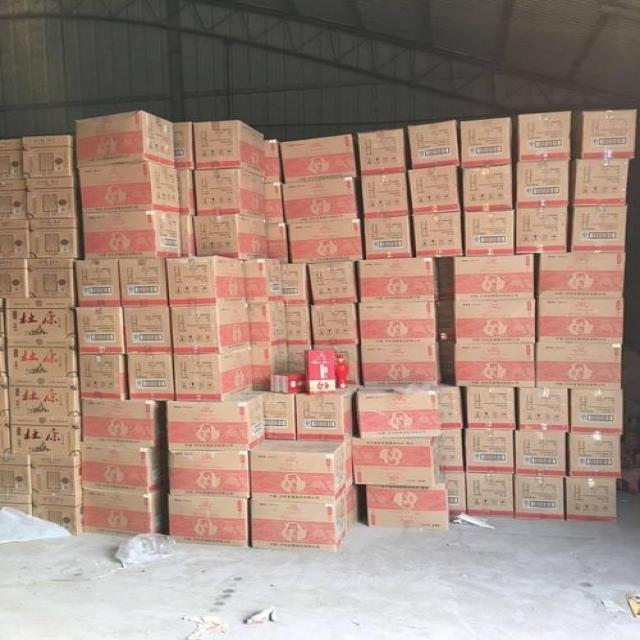box: (248, 440, 347, 505), (251, 488, 351, 552), (166, 391, 268, 452), (76, 110, 177, 167), (79, 161, 180, 214), (82, 210, 182, 259), (365, 476, 451, 531), (82, 442, 168, 495), (351, 438, 444, 487), (357, 387, 442, 439), (174, 347, 253, 401), (81, 397, 166, 447), (83, 488, 169, 537), (193, 121, 266, 178), (170, 304, 251, 354), (170, 496, 248, 547), (166, 256, 247, 305), (536, 253, 626, 297), (539, 298, 625, 344), (280, 133, 358, 183), (193, 169, 268, 220), (538, 344, 621, 390), (169, 450, 248, 498), (357, 257, 439, 303), (453, 299, 536, 344), (5, 296, 76, 348), (454, 254, 534, 300), (298, 384, 360, 443), (361, 344, 443, 387), (454, 344, 536, 387), (283, 178, 361, 223), (196, 214, 271, 260), (288, 219, 364, 263), (360, 301, 436, 345), (571, 109, 636, 159), (8, 387, 81, 427), (6, 348, 78, 388), (515, 110, 571, 161), (29, 455, 82, 507), (572, 159, 630, 206), (570, 205, 627, 252), (408, 119, 460, 170), (461, 117, 512, 167), (408, 165, 460, 214), (516, 161, 570, 208), (570, 389, 623, 436), (516, 206, 568, 253), (123, 305, 172, 354), (119, 258, 169, 306), (516, 430, 567, 477), (23, 135, 78, 178), (357, 129, 407, 176), (463, 164, 513, 211), (466, 472, 516, 519), (516, 474, 566, 521), (518, 387, 570, 432), (77, 306, 125, 354), (413, 210, 462, 257), (78, 353, 128, 399), (27, 178, 83, 219), (465, 210, 516, 255), (570, 434, 622, 478), (362, 173, 411, 219), (465, 430, 516, 474), (567, 478, 618, 522), (127, 353, 174, 399), (9, 426, 81, 456), (308, 261, 358, 304), (465, 388, 516, 430), (29, 219, 83, 258), (362, 216, 412, 258), (311, 303, 360, 345), (76, 260, 120, 306), (27, 257, 74, 298), (315, 344, 360, 383), (246, 259, 285, 303), (248, 302, 285, 346), (0, 455, 32, 505), (253, 344, 287, 391), (32, 505, 84, 535), (265, 393, 297, 440), (303, 351, 337, 393), (435, 430, 465, 473), (436, 384, 462, 430), (0, 178, 29, 219), (283, 262, 311, 304), (0, 258, 29, 298), (0, 220, 29, 259), (0, 139, 26, 180), (174, 123, 195, 168), (344, 486, 365, 531), (269, 221, 291, 262), (287, 305, 310, 344), (445, 473, 467, 513), (179, 167, 197, 215), (434, 257, 454, 299), (436, 301, 456, 342), (288, 344, 314, 372), (436, 343, 454, 383), (271, 373, 305, 394), (268, 139, 284, 182), (182, 214, 197, 255), (269, 182, 283, 222), (343, 442, 355, 486), (0, 387, 12, 424), (0, 425, 12, 455)
